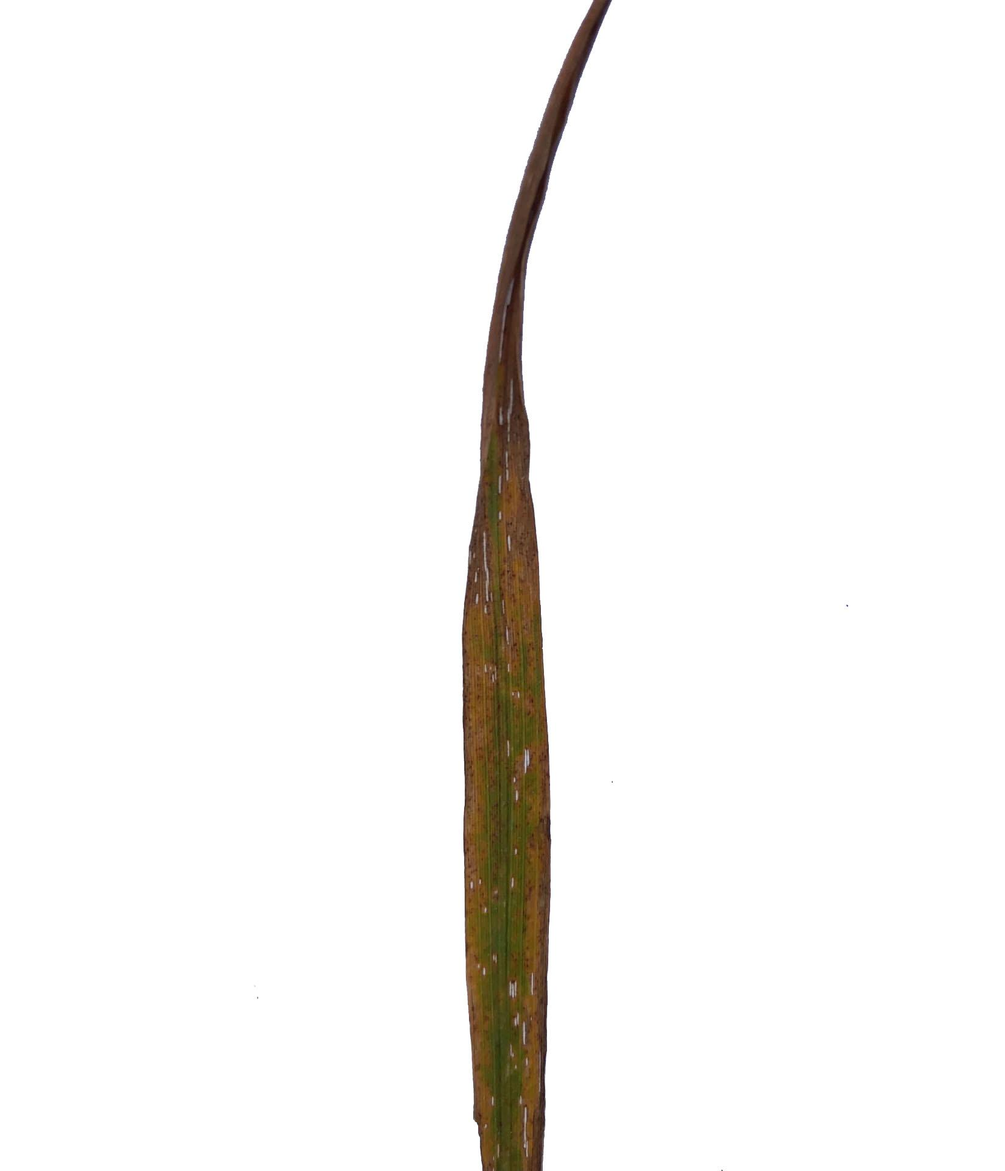Tungro: (460, 0, 615, 1171)
